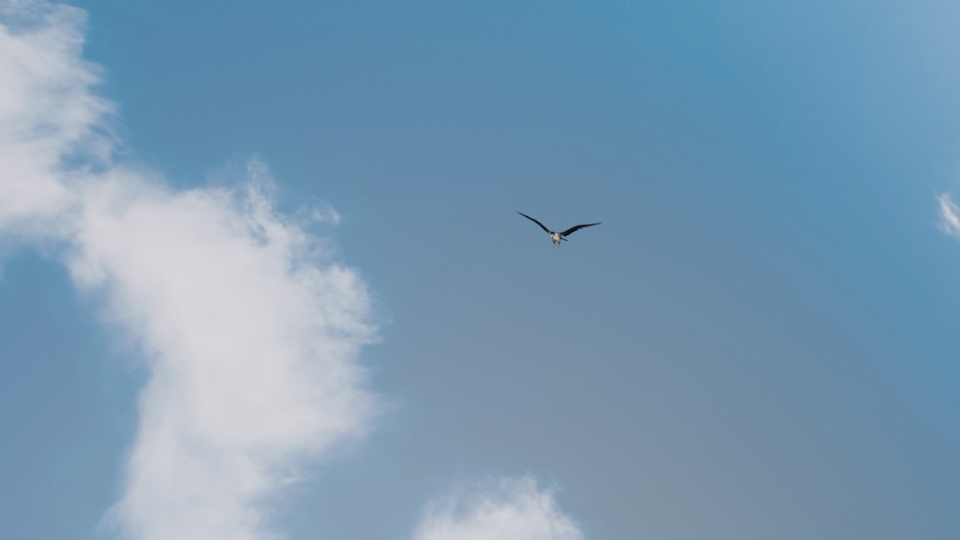bird: (511, 207, 603, 248)
